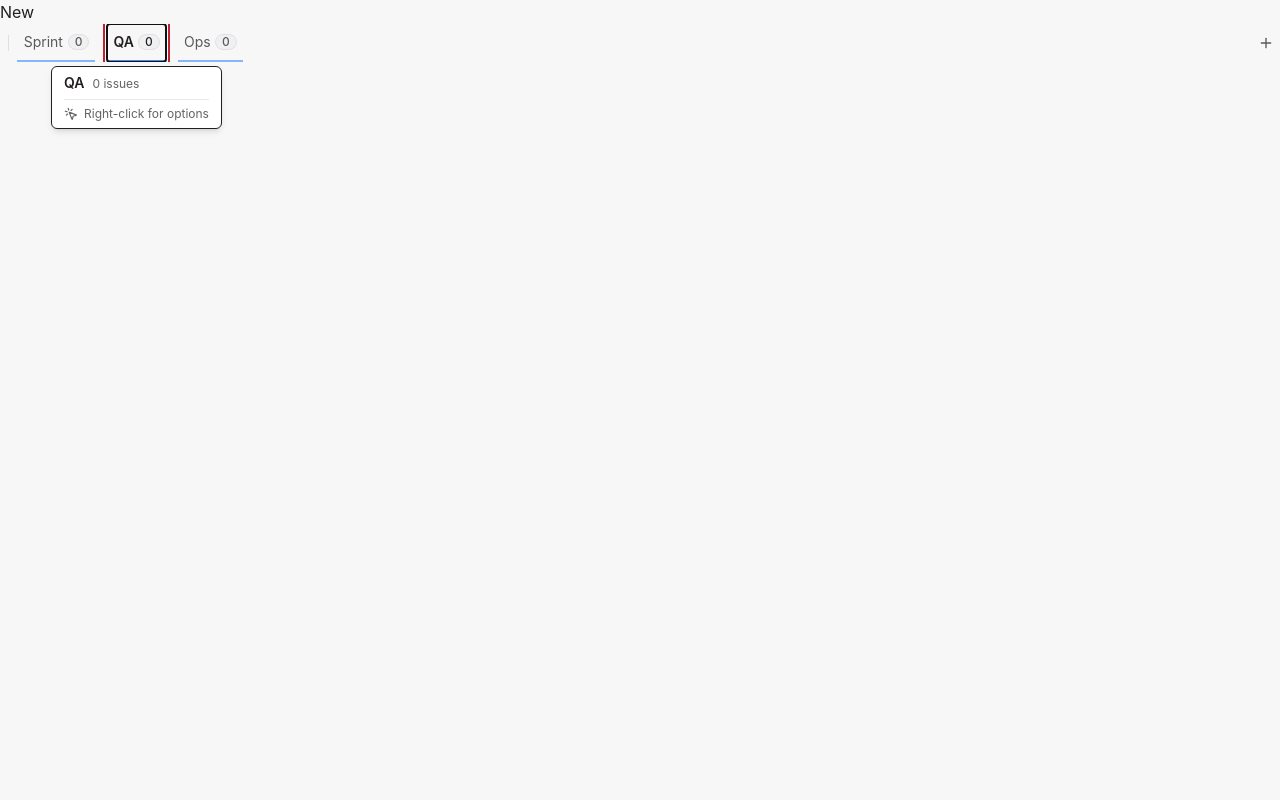
Test: Escape and focus return: tab strip overlays › Escape closes the delete dialog (Cancel focused on open) and focuses the tab
Type keys "{Shift>}{F10}{/Shift}"
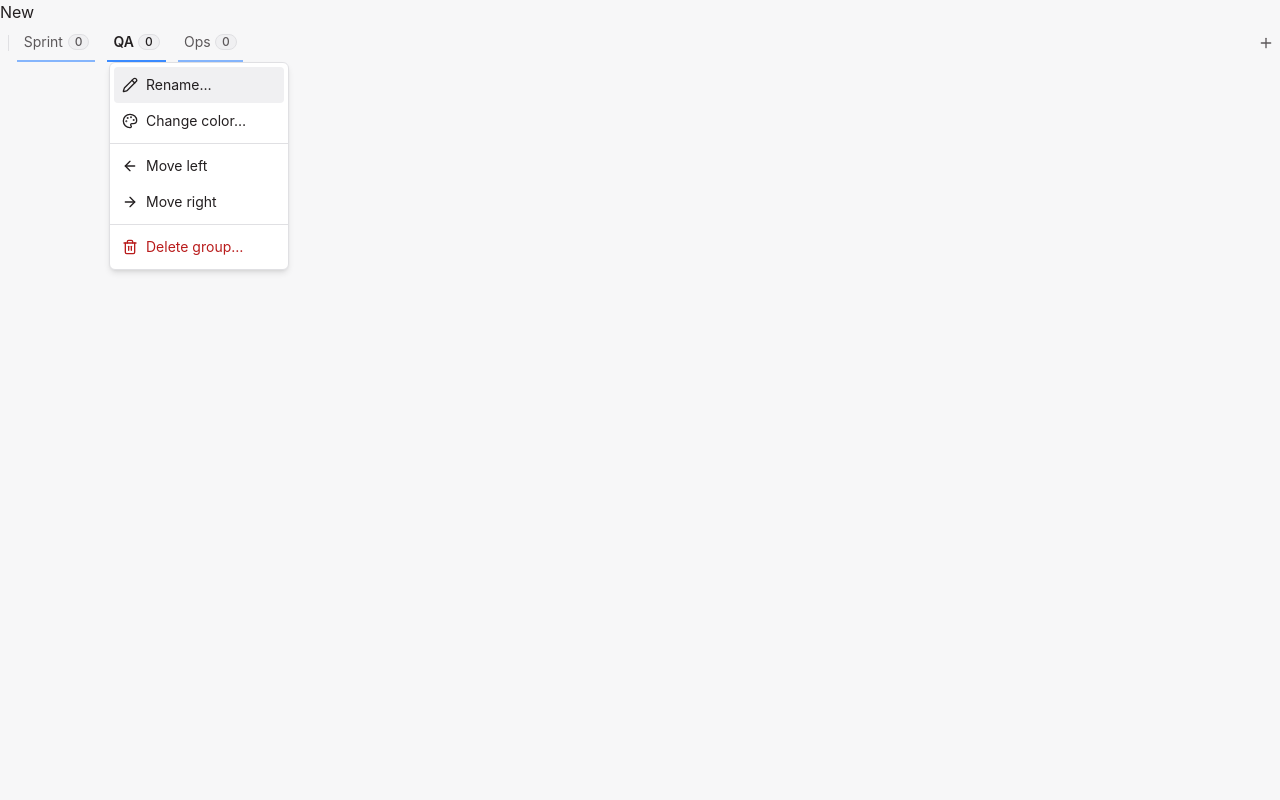
Click the menu item "Delete group…".
click(183, 246)  # box left=122, top=238, right=243, bottom=255
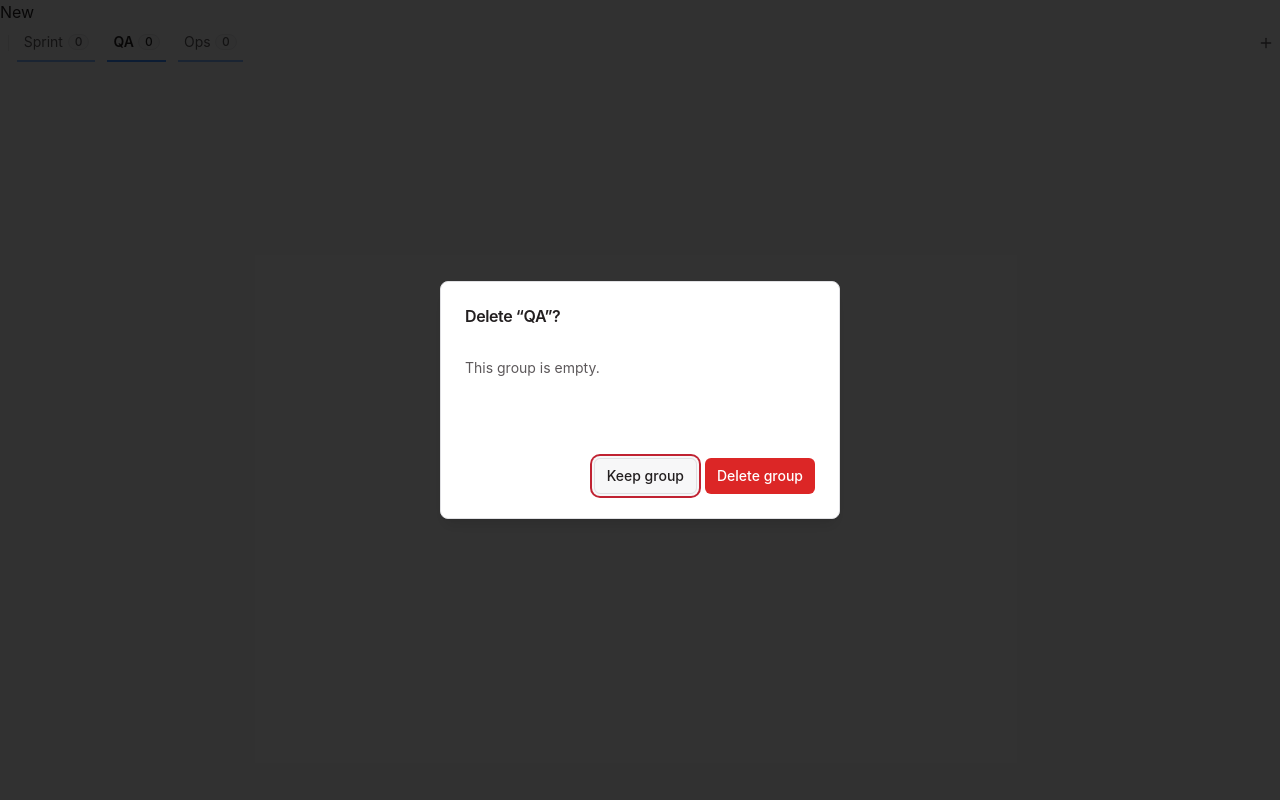
Check: the dialog is shown, box left=440, top=281, right=840, bottom=519
Press Escape
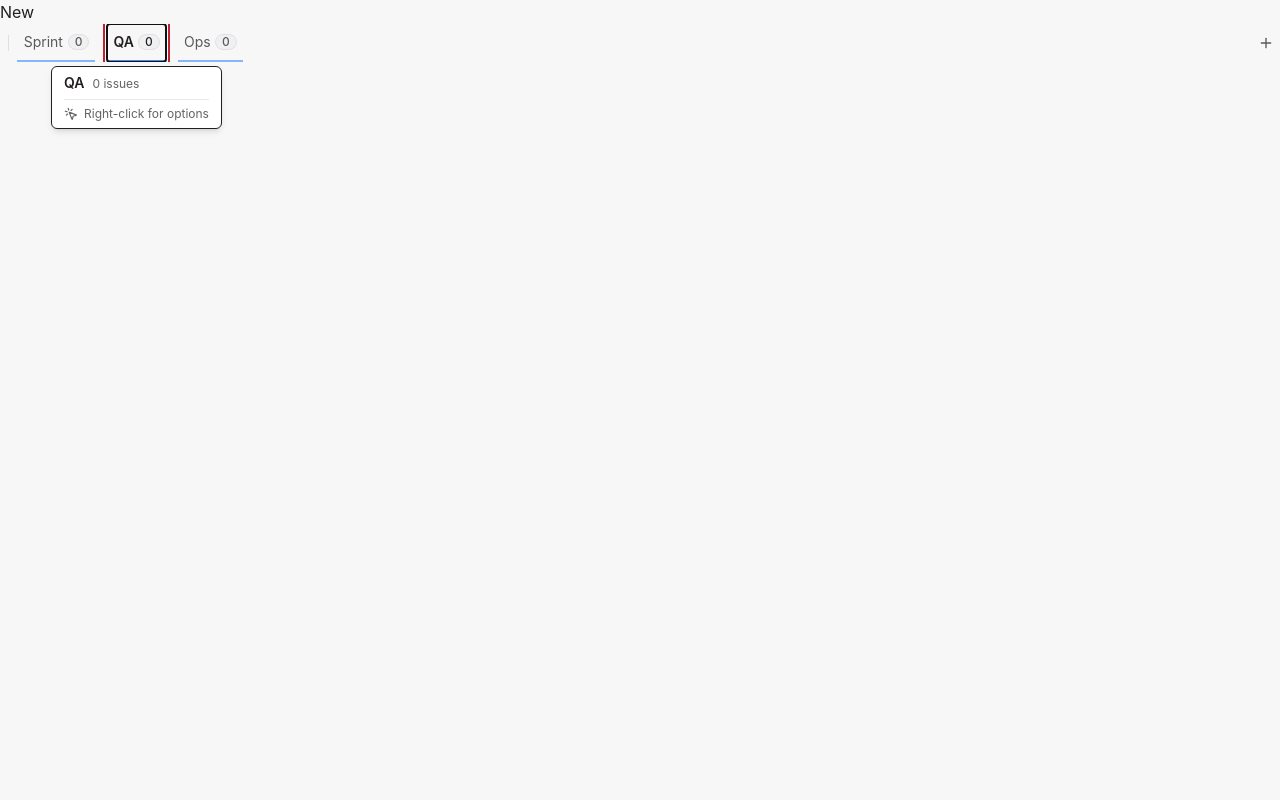
Check: the dialog is gone
